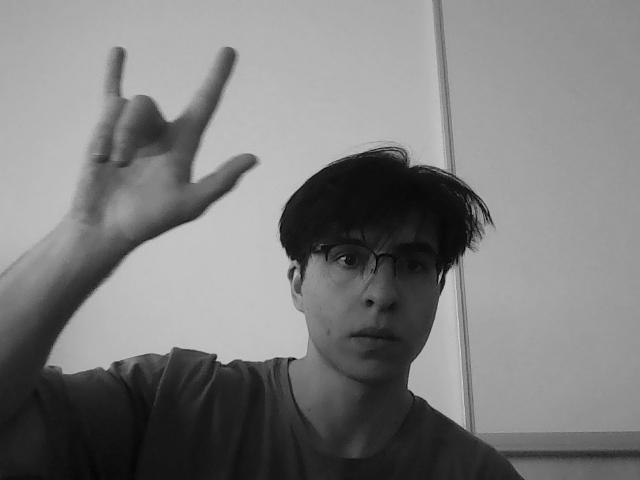I_Love_You: (62, 28, 244, 246)
